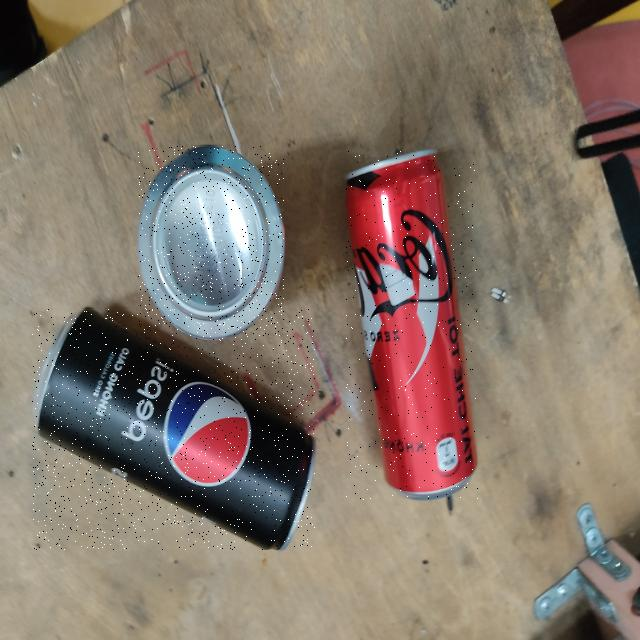metal: (33, 309, 315, 550), (346, 151, 478, 500), (138, 146, 284, 338)
